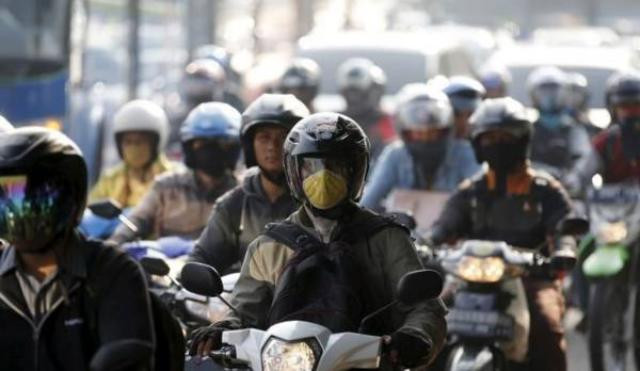helm: (1, 121, 93, 259), (284, 113, 375, 224), (465, 97, 536, 179), (392, 85, 454, 173), (178, 102, 245, 182), (114, 98, 171, 174), (605, 74, 640, 130)
motor: (181, 265, 449, 371), (412, 242, 573, 371)
